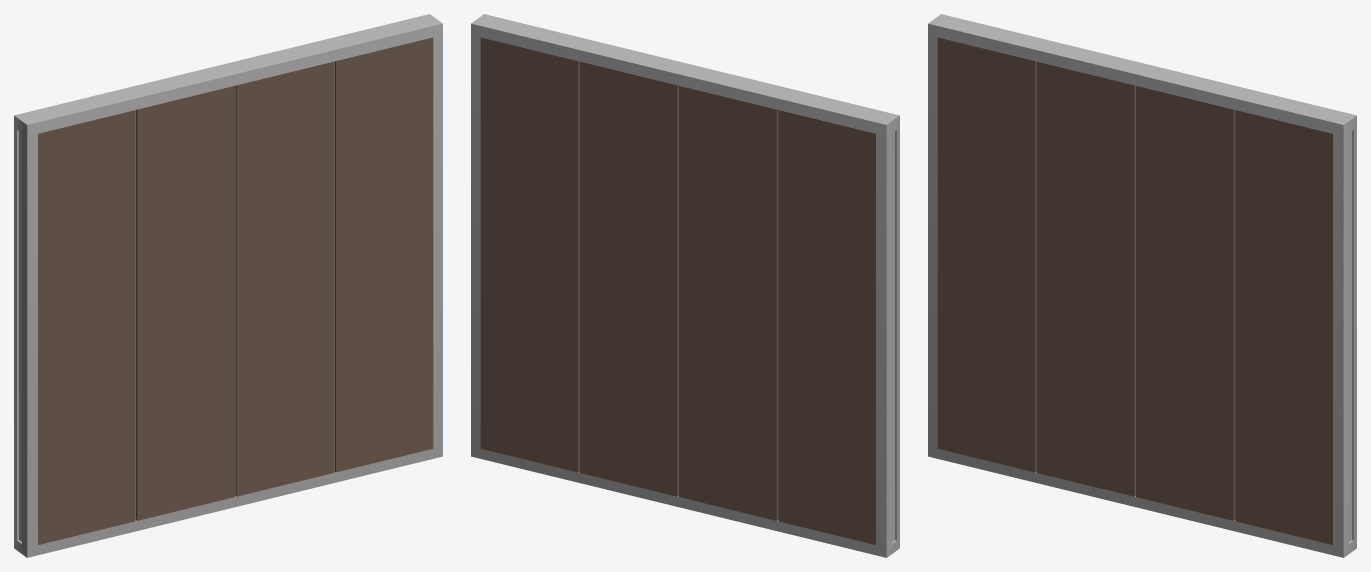
File: Wall_woodPanels.fbx
The picture shows the model from 3 angles, left to right: view 1: azimuth 30°, elevation 25°; view 2: azimuth 150°, elevation 25°; view 3: azimuth 330°, elevation 25°; orthographic projection.
Parts seen in each view (by area): view 1: Wood_Panel_3, Wood_Panel_2, Wood_Panel_1, Wood_Panel_4, Wall_Lining; view 2: Wood_Panel_3, Wood_Panel_2, Wood_Panel_1, Wood_Panel_4, Wall_Lining; view 3: Wood_Panel_4, Wood_Panel_1, Wood_Panel_2, Wood_Panel_3, Wall_Lining.
Boxes of the visible parts, <box> form: Wood_Panel_3: <box>334,37,433,472</box>; Wood_Panel_2: <box>235,61,334,496</box>; Wood_Panel_1: <box>136,86,234,520</box>; Wood_Panel_4: <box>38,110,135,544</box>; Wall_Lining: <box>14,14,442,557</box>; Wood_Panel_3: <box>480,37,579,472</box>; Wood_Panel_2: <box>579,61,678,496</box>; Wood_Panel_1: <box>679,86,777,520</box>; Wood_Panel_4: <box>778,110,875,544</box>; Wall_Lining: <box>471,14,899,557</box>; Wood_Panel_4: <box>937,37,1036,472</box>; Wood_Panel_1: <box>1036,61,1135,496</box>; Wood_Panel_2: <box>1136,86,1234,520</box>; Wood_Panel_3: <box>1235,110,1332,544</box>; Wall_Lining: <box>928,14,1356,557</box>.
Size of the model in its own units: 505 by 500 by 30.3.
